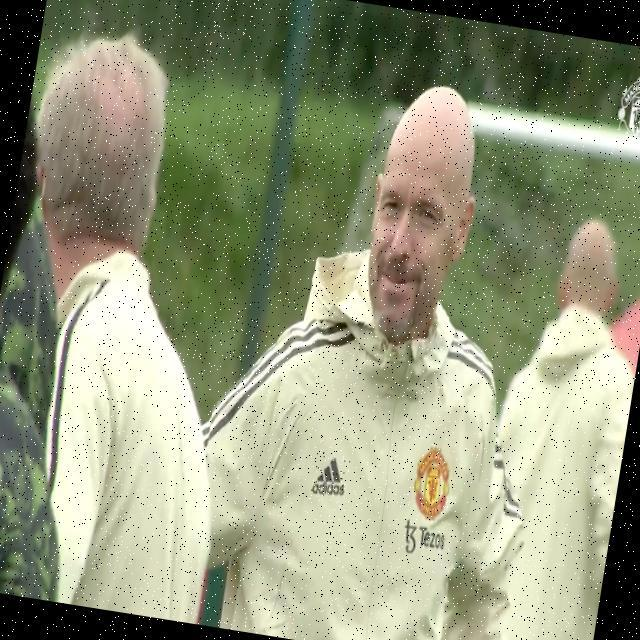Adidas: (311, 449, 351, 499)
